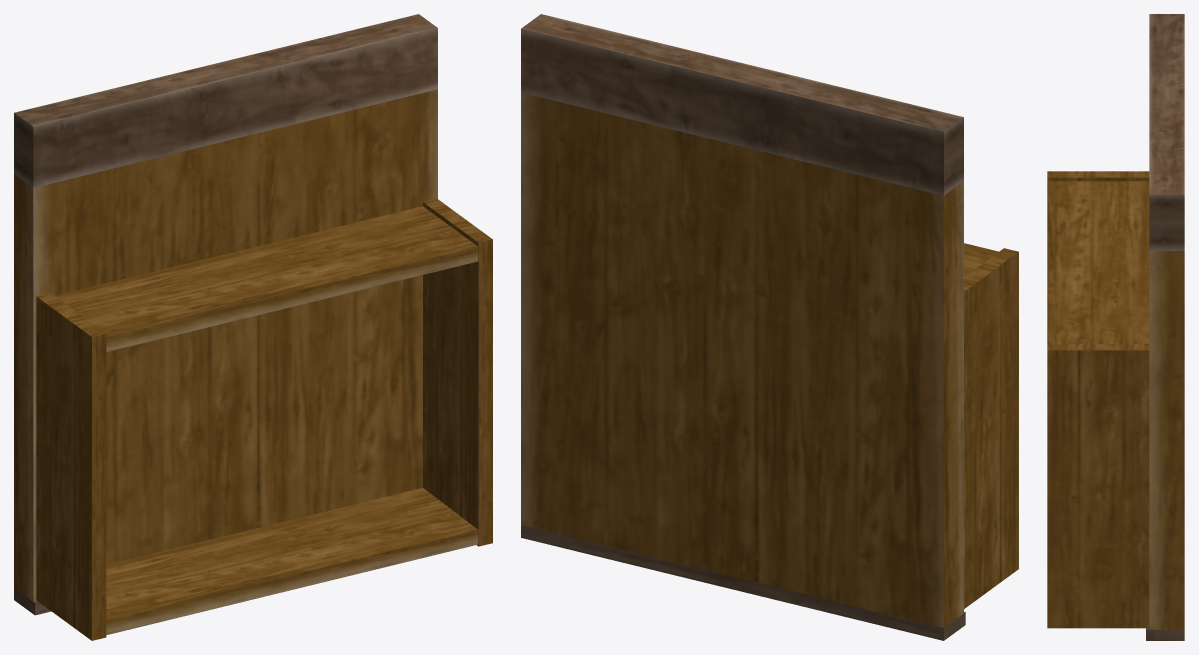
The model's file is kitcentop02b.fbx.
3 renders of one model, left to right at view 1: azimuth 30°, elevation 25°; view 2: azimuth 150°, elevation 25°; view 3: azimuth 270°, elevation 25°, orthographic. The views are drawn at different scales.
Parts seen in each view (by area): view 1: kitcentop02b; view 2: kitcentop02b; view 3: kitcentop02b.
Boxes of the visible parts, left/top/right/bottom form: kitcentop02b: left=14, top=14, right=492, bottom=640; kitcentop02b: left=521, top=14, right=1018, bottom=640; kitcentop02b: left=1047, top=14, right=1184, bottom=640.
Bounding box in the file's own units: 0.927 × 1.07 × 0.297.
